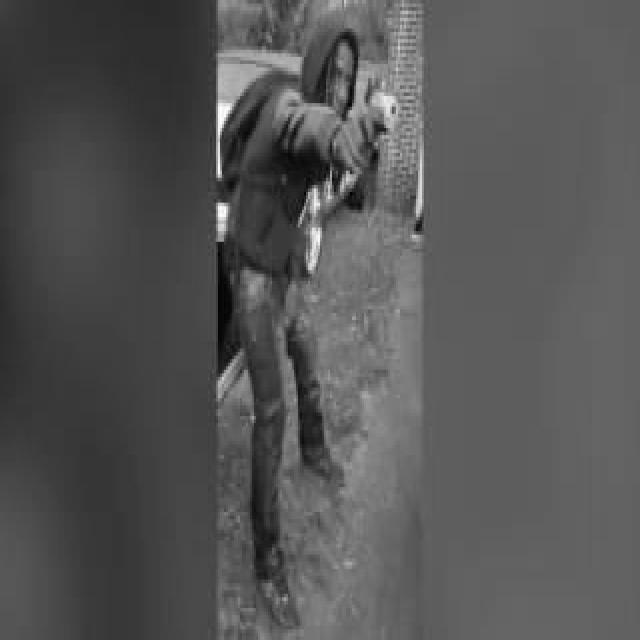gun: (348, 82, 396, 176)
